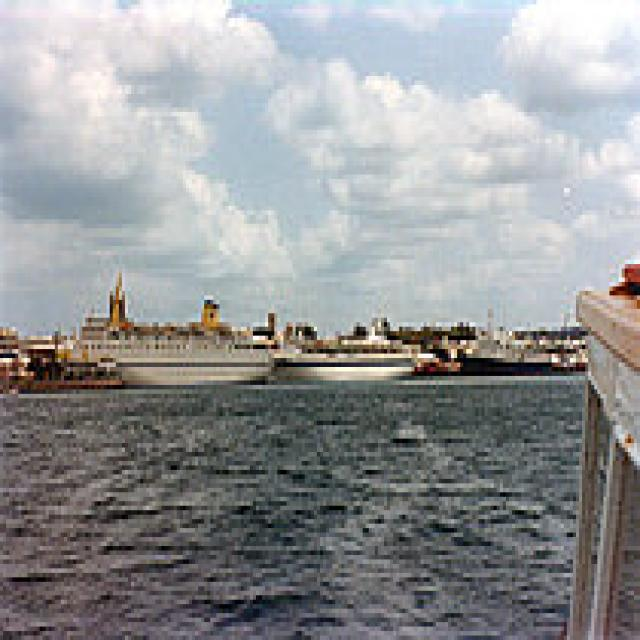Cruise: (25, 291, 268, 376)
